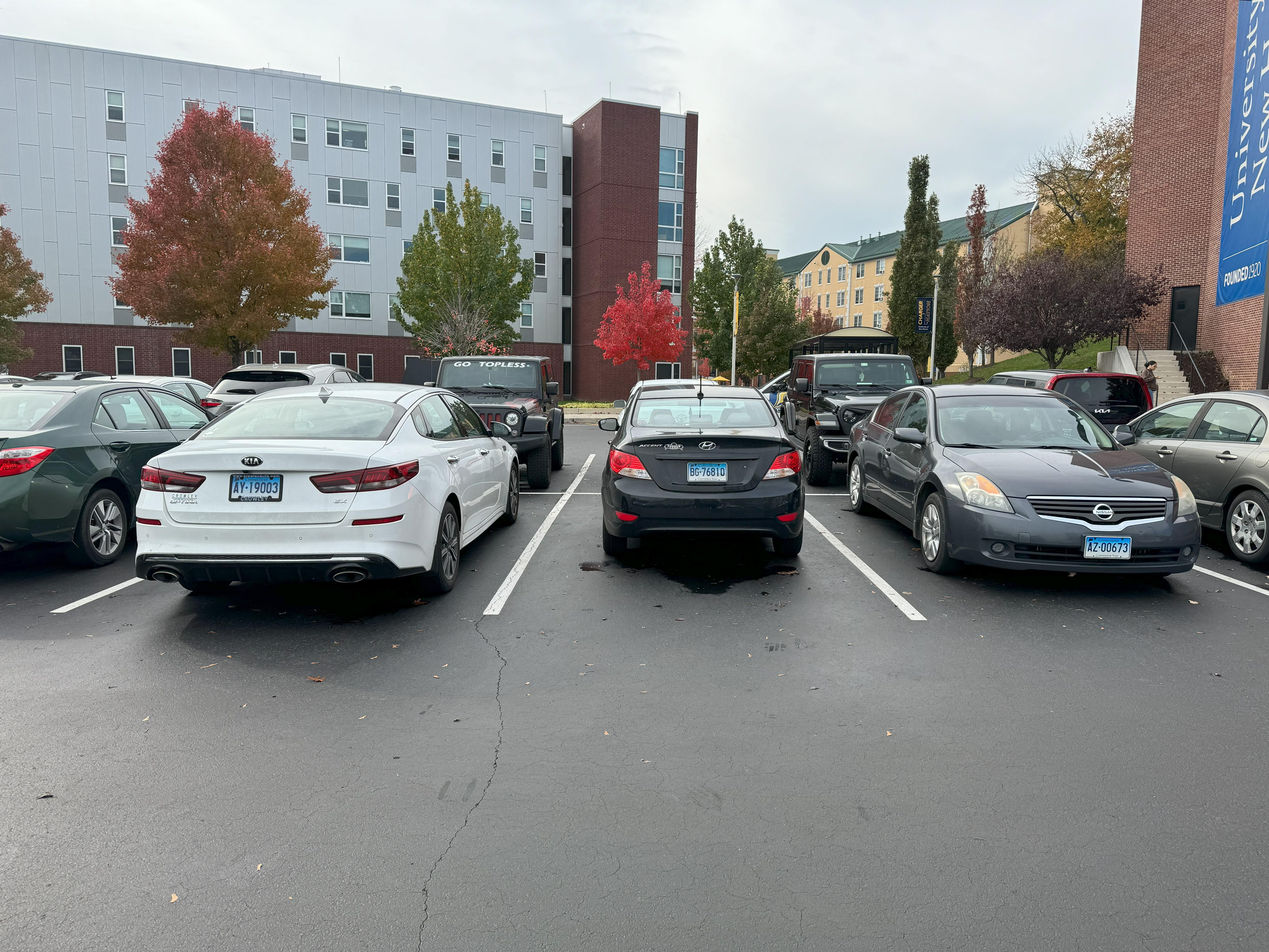occupied: (152, 345, 553, 632), (858, 363, 1205, 607), (594, 383, 818, 563), (7, 347, 130, 641)
